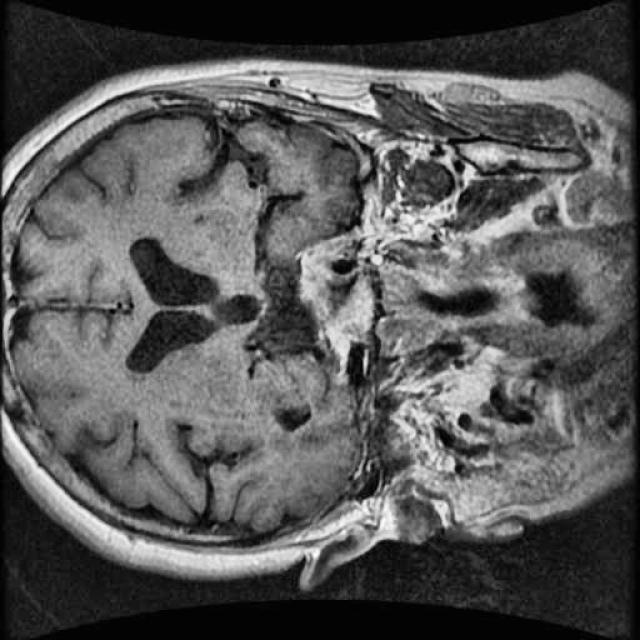Tumor: (285, 239, 391, 386)
